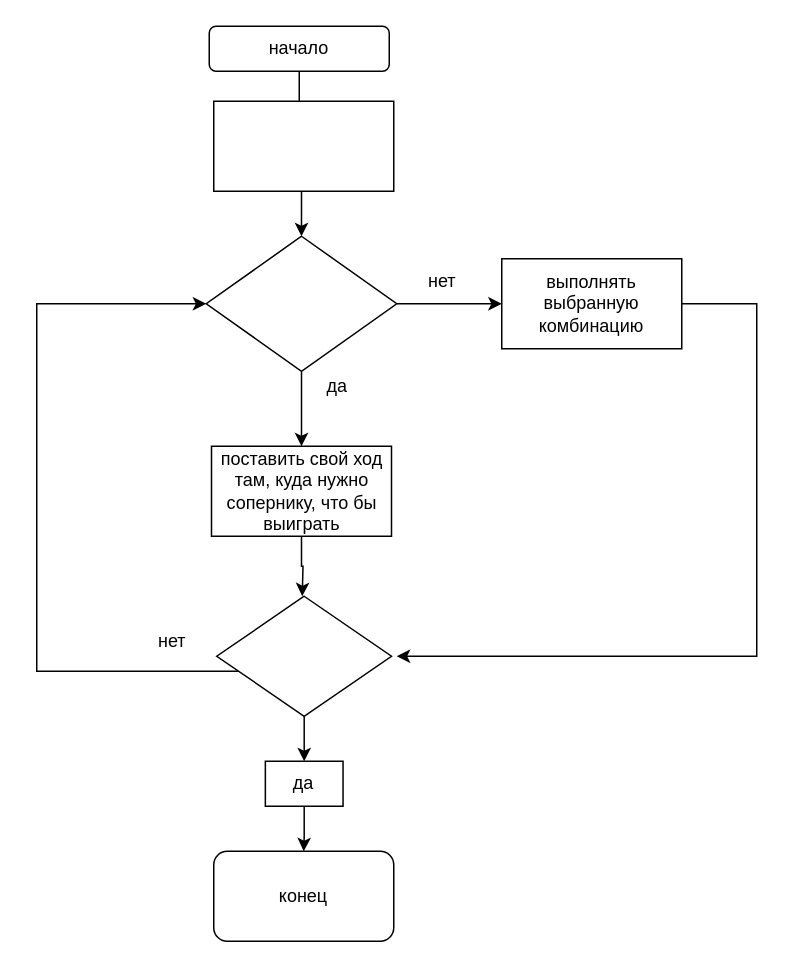
Image size: 795x968. Some labels were removed from this diagram. The shapes that lost their labels are listed below. From the top down, each one's box as (x1, y1, x2, y2) in pixels, then its label:
(212, 100, 394, 191): опререлить любую комбинацию из победных
(205, 235, 397, 371): следующий ход соперника будет побежным?
(215, 595, 392, 716): есть победитель или ничья?
